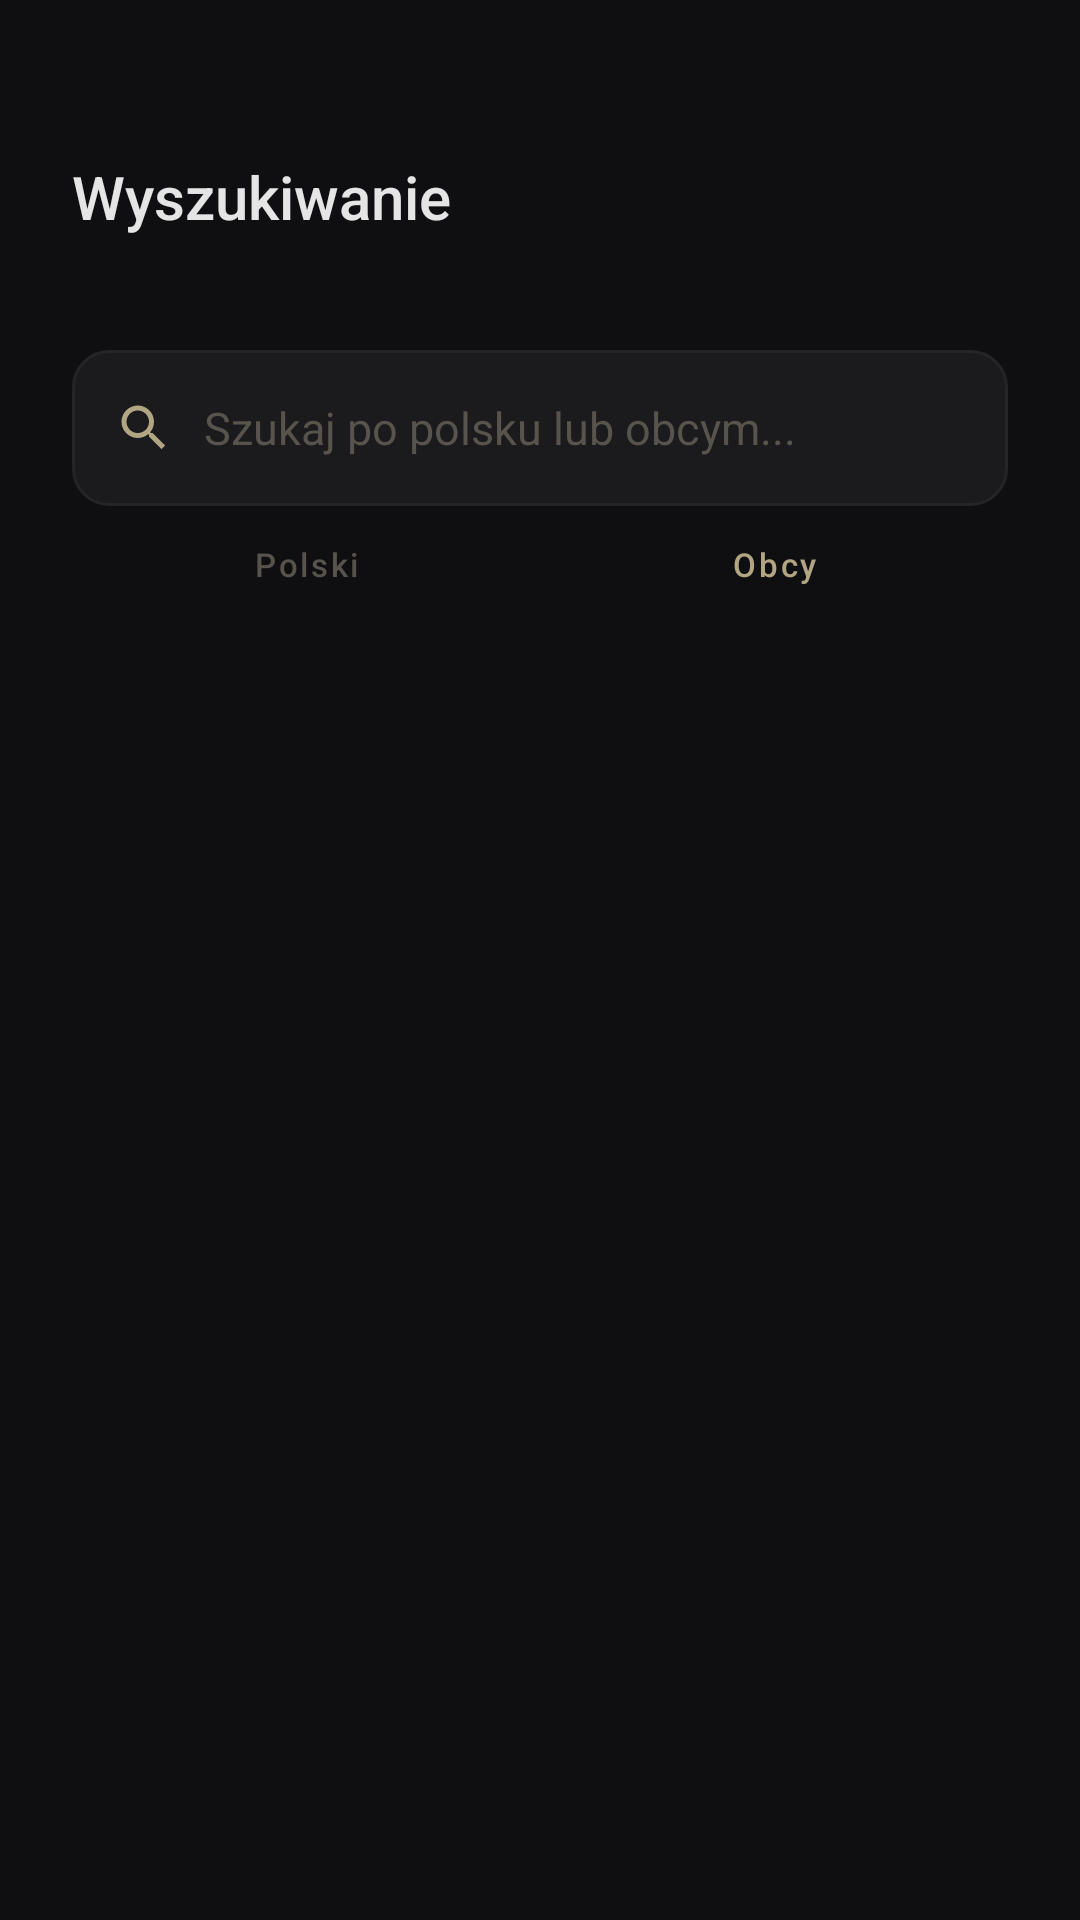

Icon bounding boxes for this 1080px x 1920px phone screenshot, format (x1, y1, x2, y2):
loupe: (121, 405, 165, 449)
